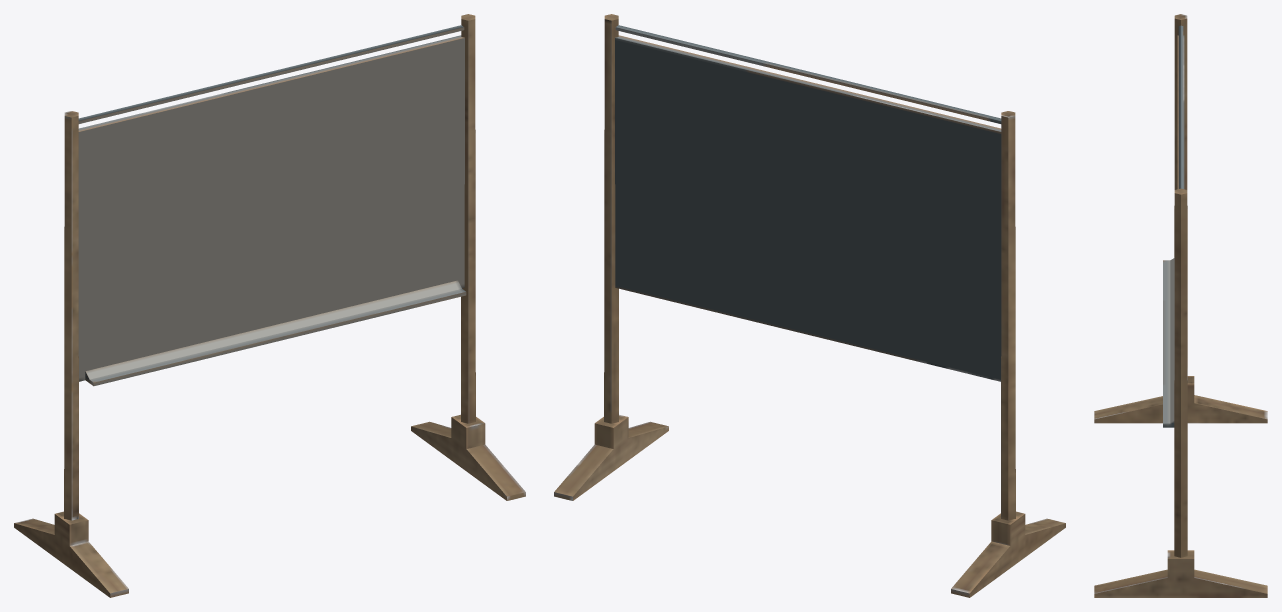
Rendered from whiteboard.glb.
3 views of the same model, side by side, from view 1: azimuth 30°, elevation 25°; view 2: azimuth 150°, elevation 25°; view 3: azimuth 270°, elevation 25° (orthographic). The views are drawn at different scales.
Visible parts, largest first — view 1: whiteboard; view 2: whiteboard; view 3: whiteboard.
Part boxes in pixels (x1,y1,x2,y2): whiteboard: [14, 14, 525, 597]; whiteboard: [554, 14, 1065, 597]; whiteboard: [1094, 14, 1267, 597].
Bounding box in the file's own units: 2.44 × 2.5 × 0.976.
Materials: 1 (1 with a texture image).
